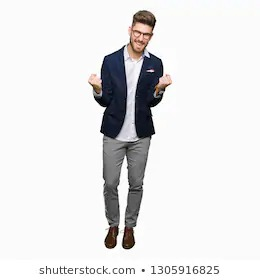F_M_suit jacket: (85, 41, 168, 141)
